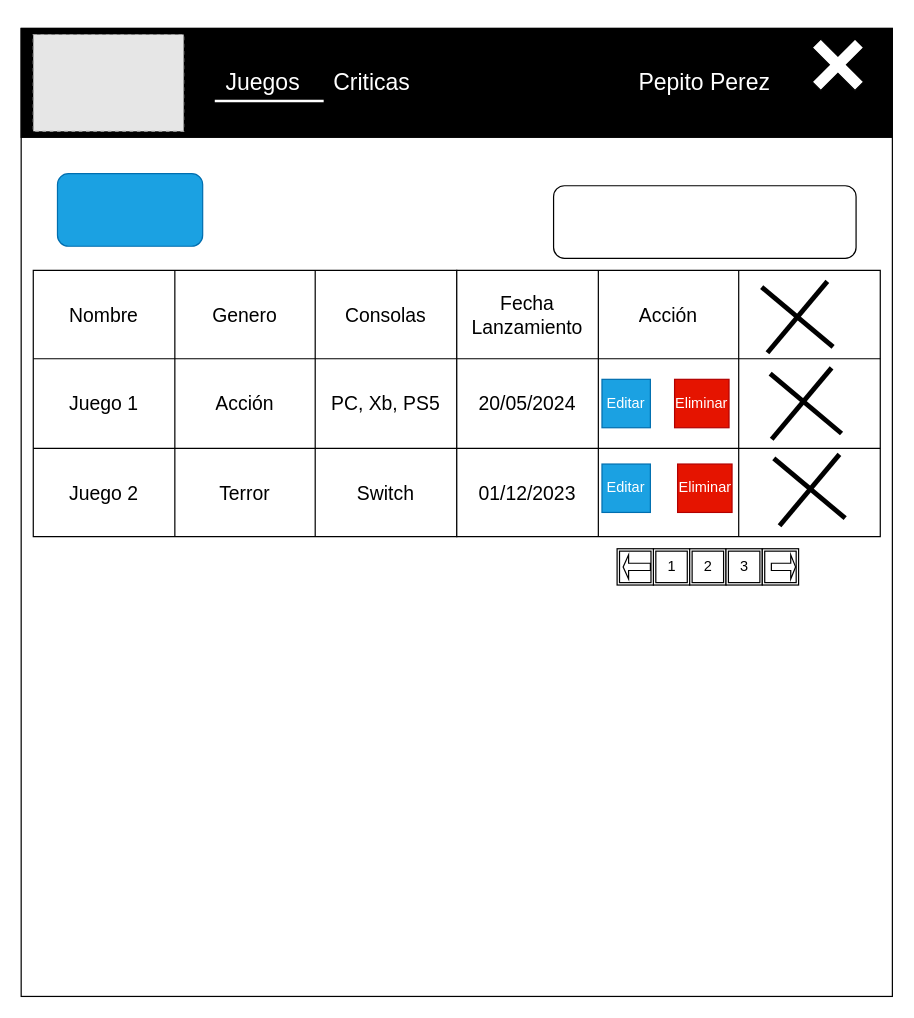
Image size: 914x1018. Some labels were removed from this diagram. Grey dashed boxes stand in for pictures. The centre of each missing label's shape, as x and y in pixels:
"Agregar" belongs at (129,209).
"Filtro" belongs at (704,221).
